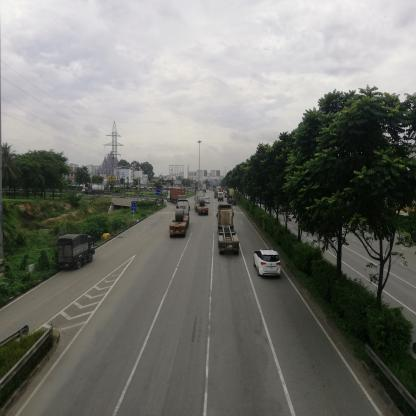car: (254, 252, 281, 278), (207, 198, 212, 205)
container: (219, 207, 237, 251), (171, 203, 191, 239), (196, 192, 206, 214), (169, 188, 185, 201), (228, 190, 235, 204)
truck: (60, 235, 96, 269), (85, 185, 105, 194)
